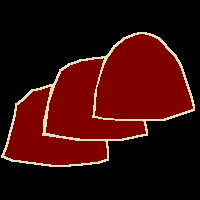hat: (93, 32, 194, 120), (2, 84, 108, 166), (44, 57, 147, 140)
